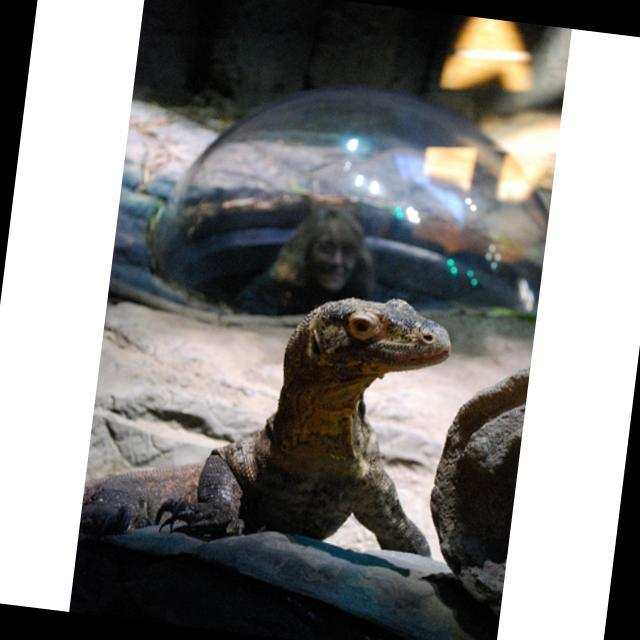KomodoDragon: (81, 259, 464, 580)
